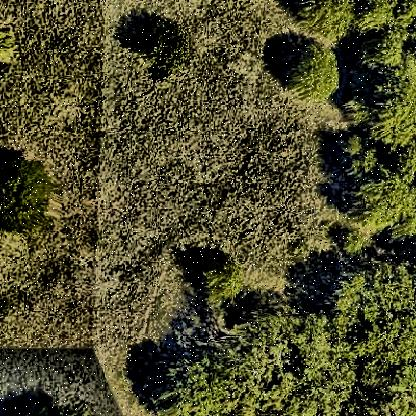tree-top: (166, 310, 356, 416), (339, 266, 416, 372), (278, 39, 346, 109), (1, 152, 55, 238), (136, 19, 200, 87), (359, 168, 416, 230), (355, 363, 416, 416), (368, 82, 416, 148), (290, 1, 358, 45), (201, 256, 249, 310), (367, 27, 409, 73), (342, 134, 382, 178), (358, 1, 394, 33), (334, 221, 366, 255)
